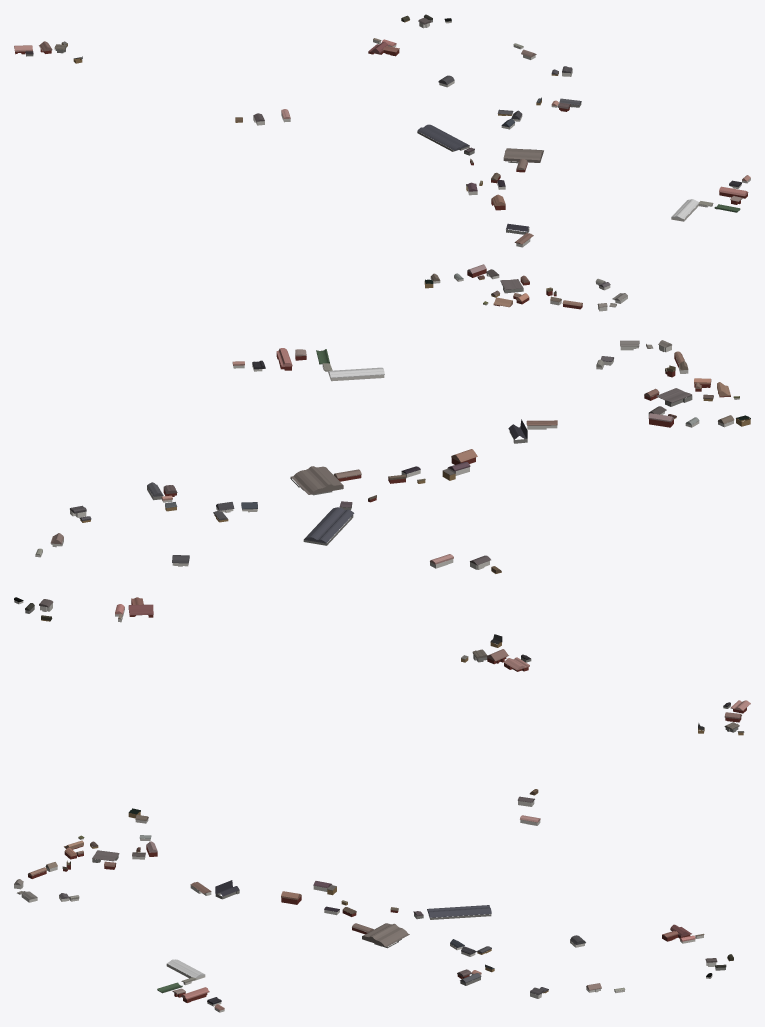
File: existing_buildings.glb
3 views of the same model, one above another, from view 1: azimuth 30°, elevation 25°; view 2: azimuth 150°, elevation 25°; view 3: azimuth 270°, elevation 25° (orthographic). The views are drawn at different scales.
Visible parts, largest first — view 1: Roof_barn.012, Roof_barn.004; view 2: Roof_barn.004, Roof_barn.012; view 3: Roof_barn.004, Roof_barn.012.
Boxes of the visible parts, <box> form: Roof_barn.012: <box>417,124,469,150</box>; Roof_barn.004: <box>503,148,543,162</box>; Roof_barn.004: <box>291,466,343,494</box>; Roof_barn.012: <box>304,507,354,543</box>; Roof_barn.004: <box>362,923,409,947</box>; Roof_barn.012: <box>427,905,491,917</box>.
Size of the model in its own units: 677 by 88.25 by 858.
